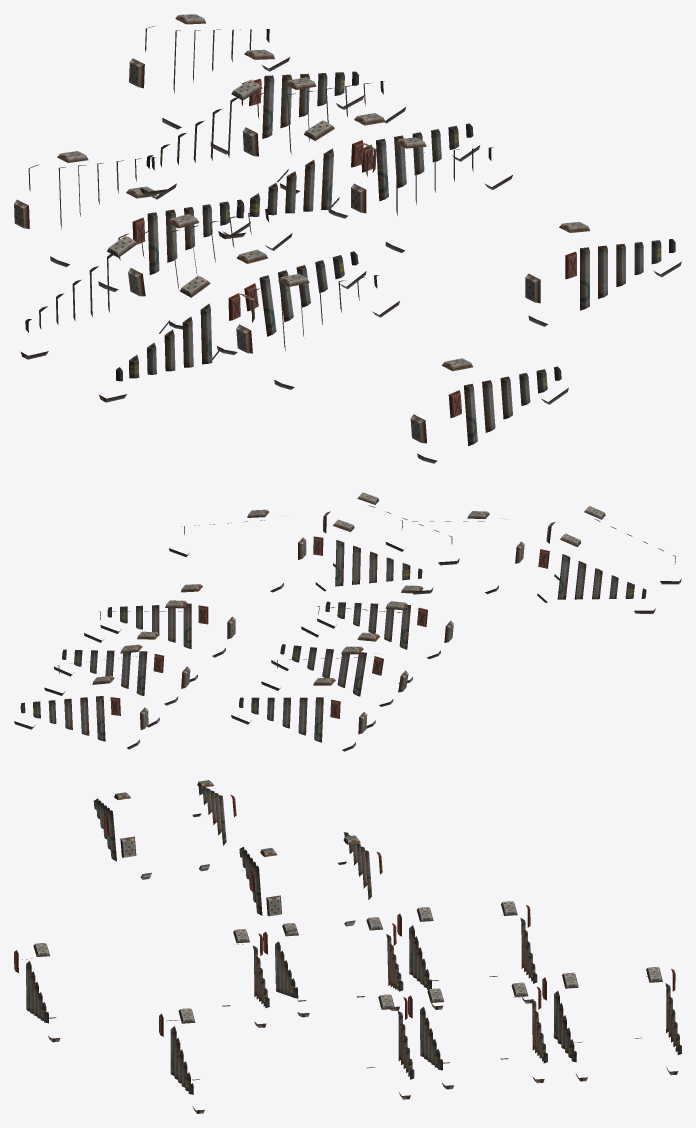
The model's file is prop_static_tan_container_01_05.glb.
The picture shows the model from 3 angles, top to bottom: view 1: azimuth 30°, elevation 25°; view 2: azimuth 150°, elevation 25°; view 3: azimuth 270°, elevation 25°; orthographic projection. The views are drawn at different scales.
Parts seen in each view (by area): view 1: tan_container_01_05_LOD0; view 2: tan_container_01_05_LOD0; view 3: tan_container_01_05_LOD0.
Part boxes in pixels (box(x1,y1,x2,y2)): tan_container_01_05_LOD0: box(14, 14, 681, 463); tan_container_01_05_LOD0: box(14, 492, 681, 751); tan_container_01_05_LOD0: box(14, 780, 681, 1113).
Size of what is drawn, in the model's own units: 9.52 by 3.25 by 10.63.
Materials: 1 (1 with a texture image).
